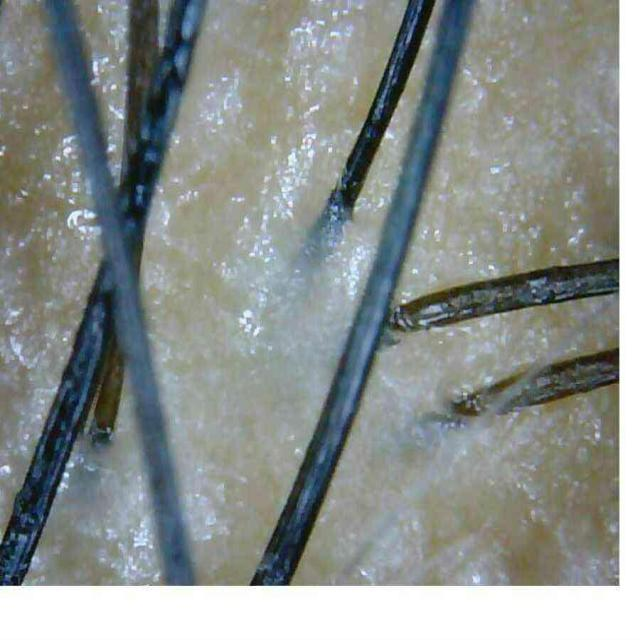ds: (0, 242, 57, 393), (172, 458, 232, 543)
o: (502, 384, 620, 588), (474, 157, 598, 267), (49, 122, 112, 256), (282, 13, 357, 123), (93, 514, 163, 585), (91, 43, 126, 185), (234, 271, 278, 360), (272, 133, 316, 219), (459, 51, 511, 114), (200, 68, 244, 135), (234, 201, 280, 265), (52, 446, 94, 503), (95, 0, 131, 56), (146, 183, 173, 254), (342, 244, 370, 298)
